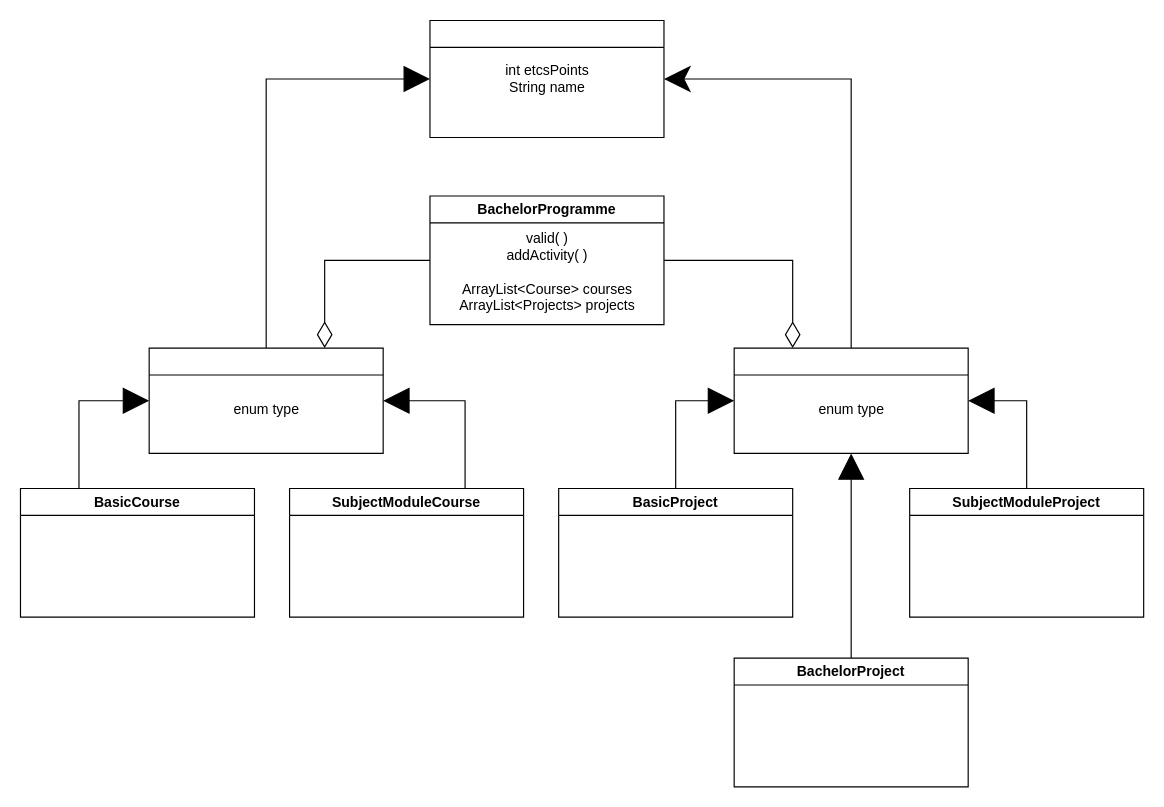
Some shapes in this 1164 by 807 pixel diagram are drawn without their labels. The shapes that lost their labels are listed below. From the top down, each one's box as (x1, y1, x2, y2) in pixels, then its label:
(429, 19, 664, 137): Activity
(148, 347, 383, 453): Course
(733, 347, 968, 453): Project
